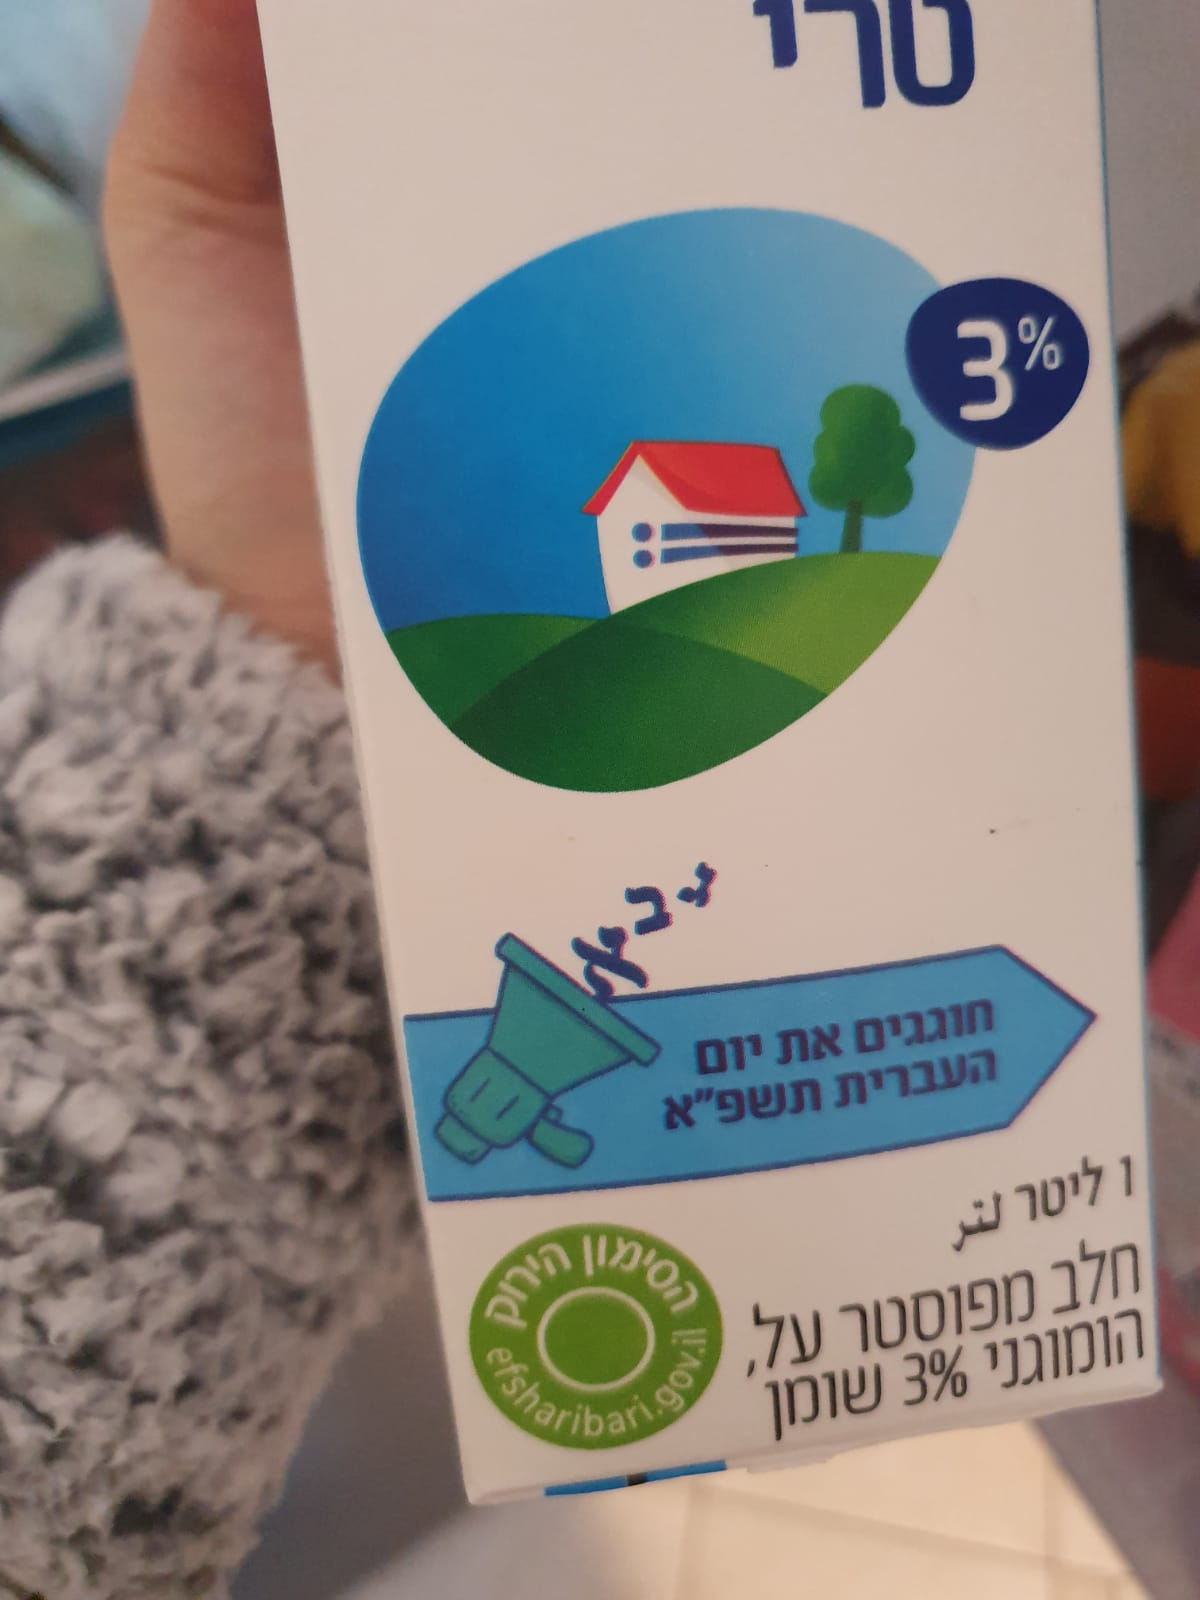green: (466, 1226, 726, 1451)
